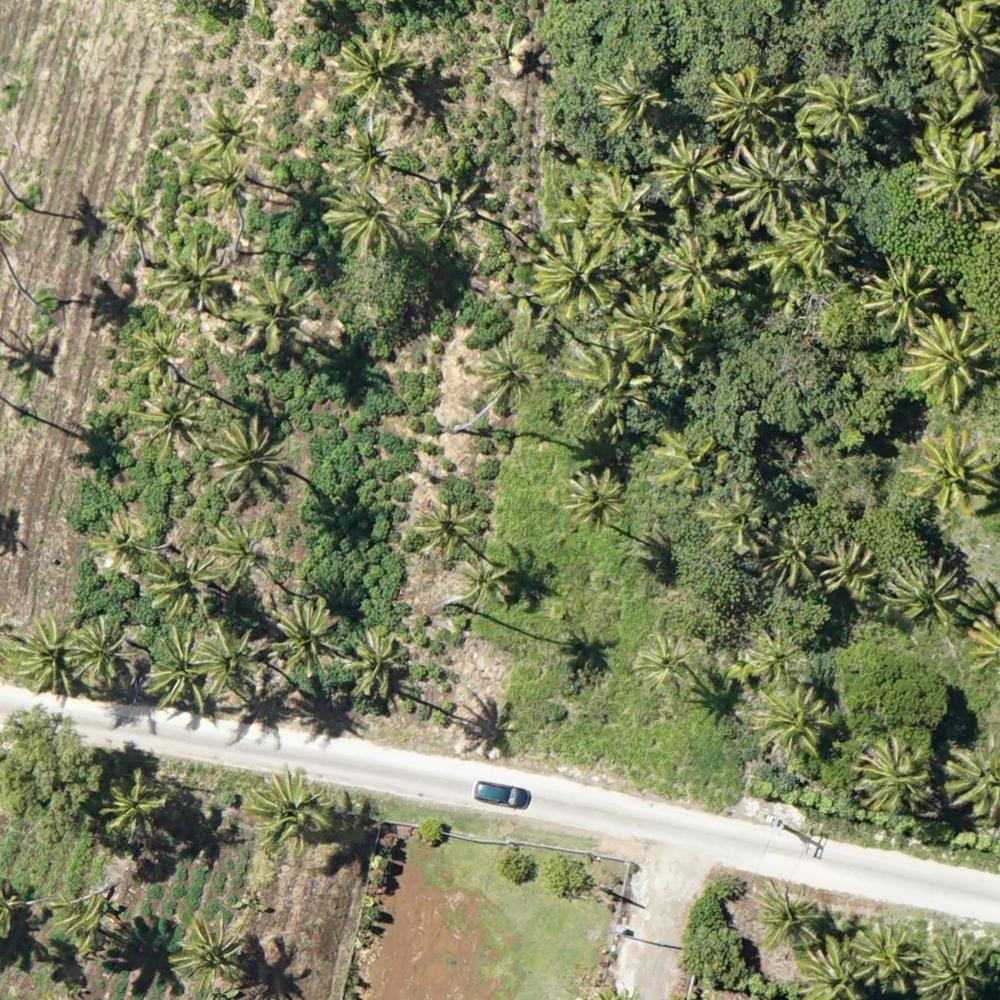Palm: (528, 238, 629, 324), (907, 312, 989, 407), (912, 430, 999, 517), (250, 768, 332, 856), (922, 128, 996, 224), (126, 384, 209, 466), (725, 140, 805, 224), (146, 622, 218, 713), (924, 4, 999, 90), (214, 415, 292, 495), (843, 916, 924, 992), (172, 916, 250, 994), (706, 60, 782, 140), (857, 736, 935, 812), (236, 272, 311, 351), (151, 241, 231, 315), (864, 256, 938, 334), (571, 345, 645, 423), (798, 68, 875, 142), (749, 878, 826, 952), (204, 513, 278, 588), (336, 38, 416, 107), (658, 231, 731, 306), (754, 686, 831, 757), (273, 596, 342, 674), (328, 184, 402, 256), (576, 172, 651, 243), (186, 98, 263, 167), (780, 201, 858, 269), (616, 289, 688, 359), (12, 615, 76, 693), (702, 490, 772, 559), (917, 934, 992, 998), (125, 324, 198, 389), (602, 62, 668, 132), (890, 558, 956, 625), (653, 136, 721, 201), (195, 627, 258, 697), (101, 774, 166, 841), (98, 184, 163, 250), (816, 538, 878, 607), (341, 629, 406, 694), (562, 468, 625, 535), (484, 334, 540, 408), (69, 617, 135, 679), (85, 508, 149, 571), (415, 495, 480, 557), (152, 549, 211, 617), (458, 551, 519, 614), (337, 125, 398, 183), (740, 631, 805, 683), (640, 634, 698, 690)
